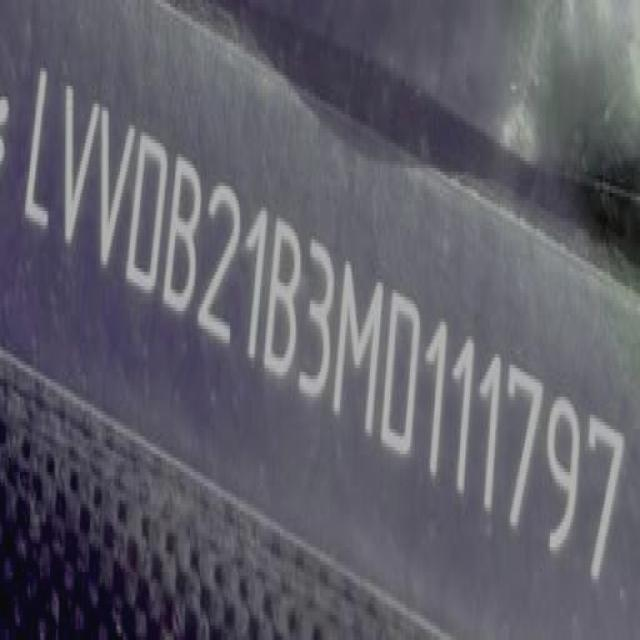1: (473, 340, 503, 526), (448, 327, 477, 515), (421, 309, 450, 496), (242, 193, 269, 371)
2: (200, 169, 245, 356)
3: (299, 233, 335, 396)
7: (580, 408, 633, 598), (502, 358, 548, 546)
9: (539, 385, 588, 568)
B: (164, 146, 206, 325), (266, 207, 306, 389)
D: (382, 283, 425, 464), (127, 120, 167, 301)
L: (20, 55, 62, 243)
M: (335, 252, 387, 438)
V: (57, 78, 101, 266), (96, 98, 139, 285)
